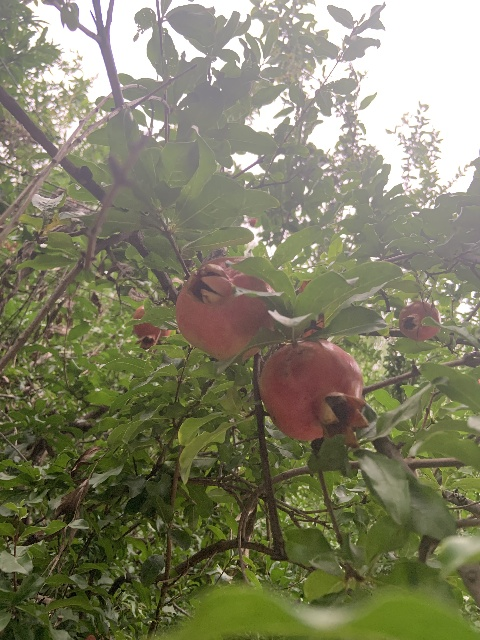ripe: (258, 339, 368, 445), (175, 256, 274, 360), (398, 300, 441, 340), (133, 304, 171, 349)
